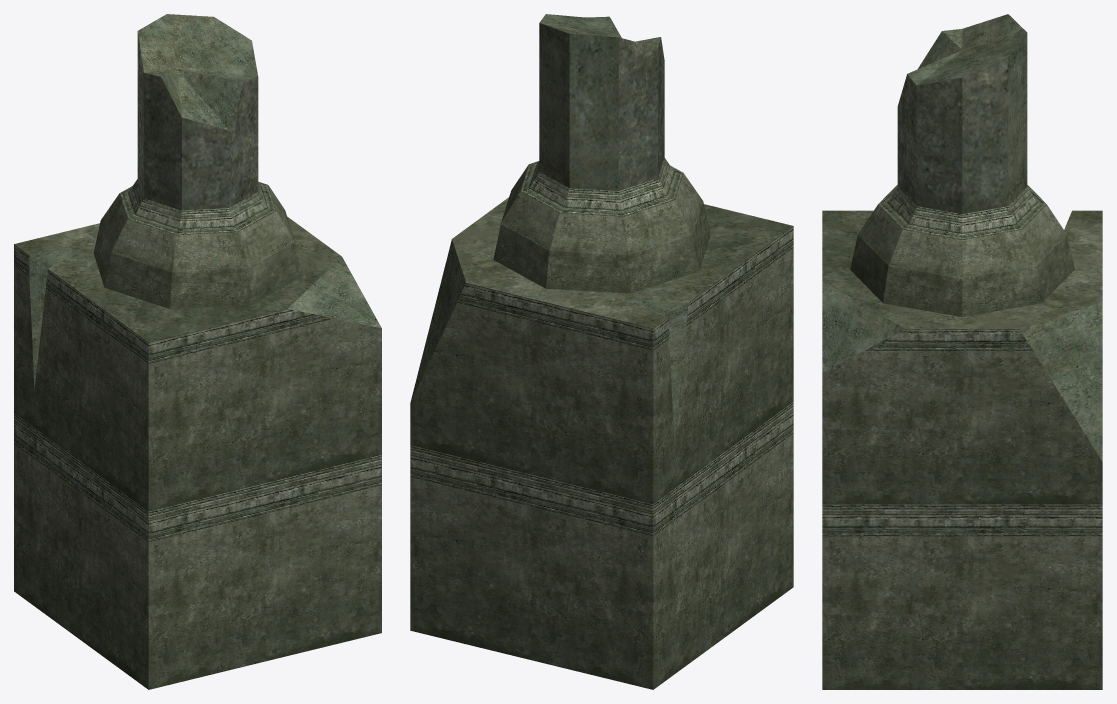
Rendered from thm_dant_jedi_temple_pillar_sm_l0.fbx.
3 views of the same model, side by side, from view 1: azimuth 30°, elevation 25°; view 2: azimuth 150°, elevation 25°; view 3: azimuth 270°, elevation 25° (orthographic). The views are drawn at different scales.
Parts seen in each view (by area): view 1: mesh_node; view 2: mesh_node; view 3: mesh_node.
Part boxes in pixels (bbox=[...]): mesh_node: bbox=[14, 14, 381, 689]; mesh_node: bbox=[410, 14, 793, 689]; mesh_node: bbox=[822, 14, 1102, 689].
Bounding box in the file's own units: 2 × 4.72 × 2.
